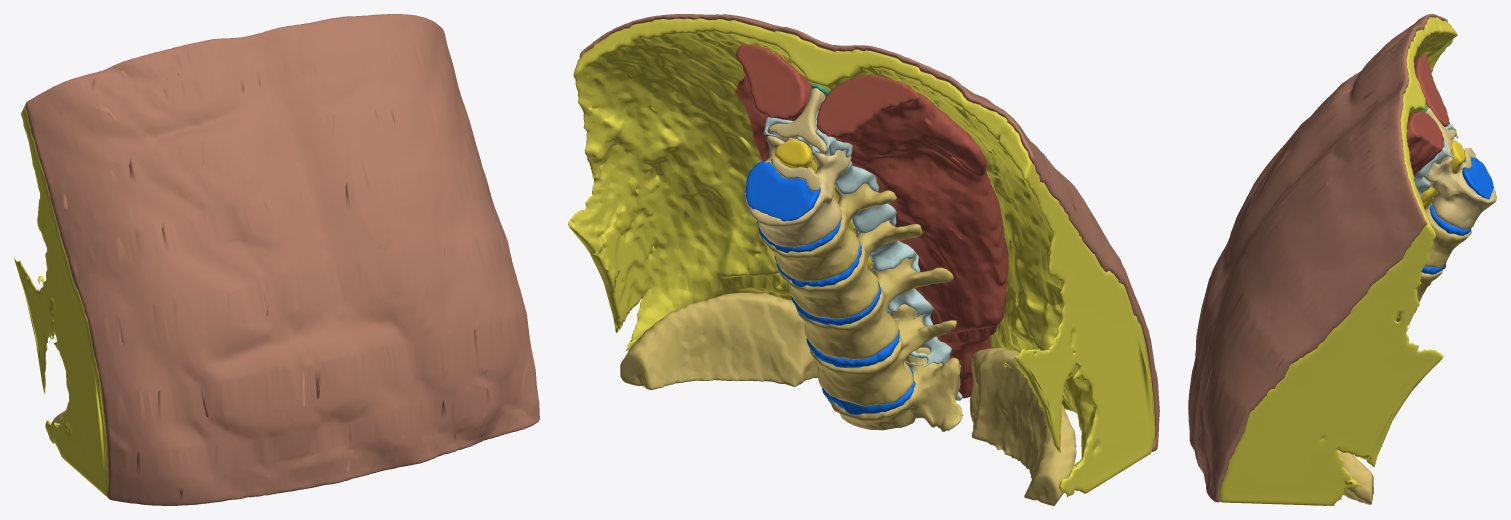
The model's file is lumbar_adjusted.glb.
3 views of the same model, side by side, from view 1: azimuth 30°, elevation 25°; view 2: azimuth 150°, elevation 25°; view 3: azimuth 270°, elevation 25° (orthographic). The views are drawn at different scales.
Parts seen in each view (by area): view 1: SkinThin, fat; view 2: fat, leftdeepbackmuscle, righthip, lefthip, SkinThin, intervertebral_discs, Ligaments, L4vertebra, L3vertebra, rightdeepbackmuscle, L5vertebra, L2vertebra (+4 smaller); view 3: SkinThin, fat, T12vertebra, rightdeepbackmuscle, intervertebral_discs, righthip, leftdeepbackmuscle, L1vertebra, Ligaments, T11vertebra, spinalcord.
Boxes of the visible parts, box(x1,y1,x2,y2) form: SkinThin: box(25, 14, 539, 505); fat: box(14, 105, 122, 496); fat: box(568, 18, 1155, 497); leftdeepbackmuscle: box(816, 74, 1008, 398); righthip: box(620, 292, 818, 389); lefthip: box(969, 348, 1076, 505); SkinThin: box(579, 14, 1159, 451); intervertebral_discs: box(745, 161, 915, 414); Ligaments: box(764, 111, 962, 400); L4vertebra: box(810, 304, 956, 406); L3vertebra: box(795, 256, 953, 359); rightdeepbackmuscle: box(735, 44, 812, 161); L5vertebra: box(826, 347, 963, 431); L2vertebra: box(778, 220, 922, 318); SkinThin: box(1188, 14, 1447, 502); fat: box(1219, 17, 1457, 505); T12vertebra: box(1423, 139, 1496, 229); rightdeepbackmuscle: box(1406, 110, 1444, 176); intervertebral_discs: box(1416, 157, 1493, 309); righthip: box(1337, 449, 1373, 504); leftdeepbackmuscle: box(1413, 53, 1449, 126); L1vertebra: box(1424, 197, 1471, 267); Ligaments: box(1414, 123, 1458, 200); T11vertebra: box(1425, 107, 1475, 168); spinalcord: box(1420, 140, 1465, 208).
Bounding box in the file's own units: 0.3145 × 0.2602 × 0.2129.
